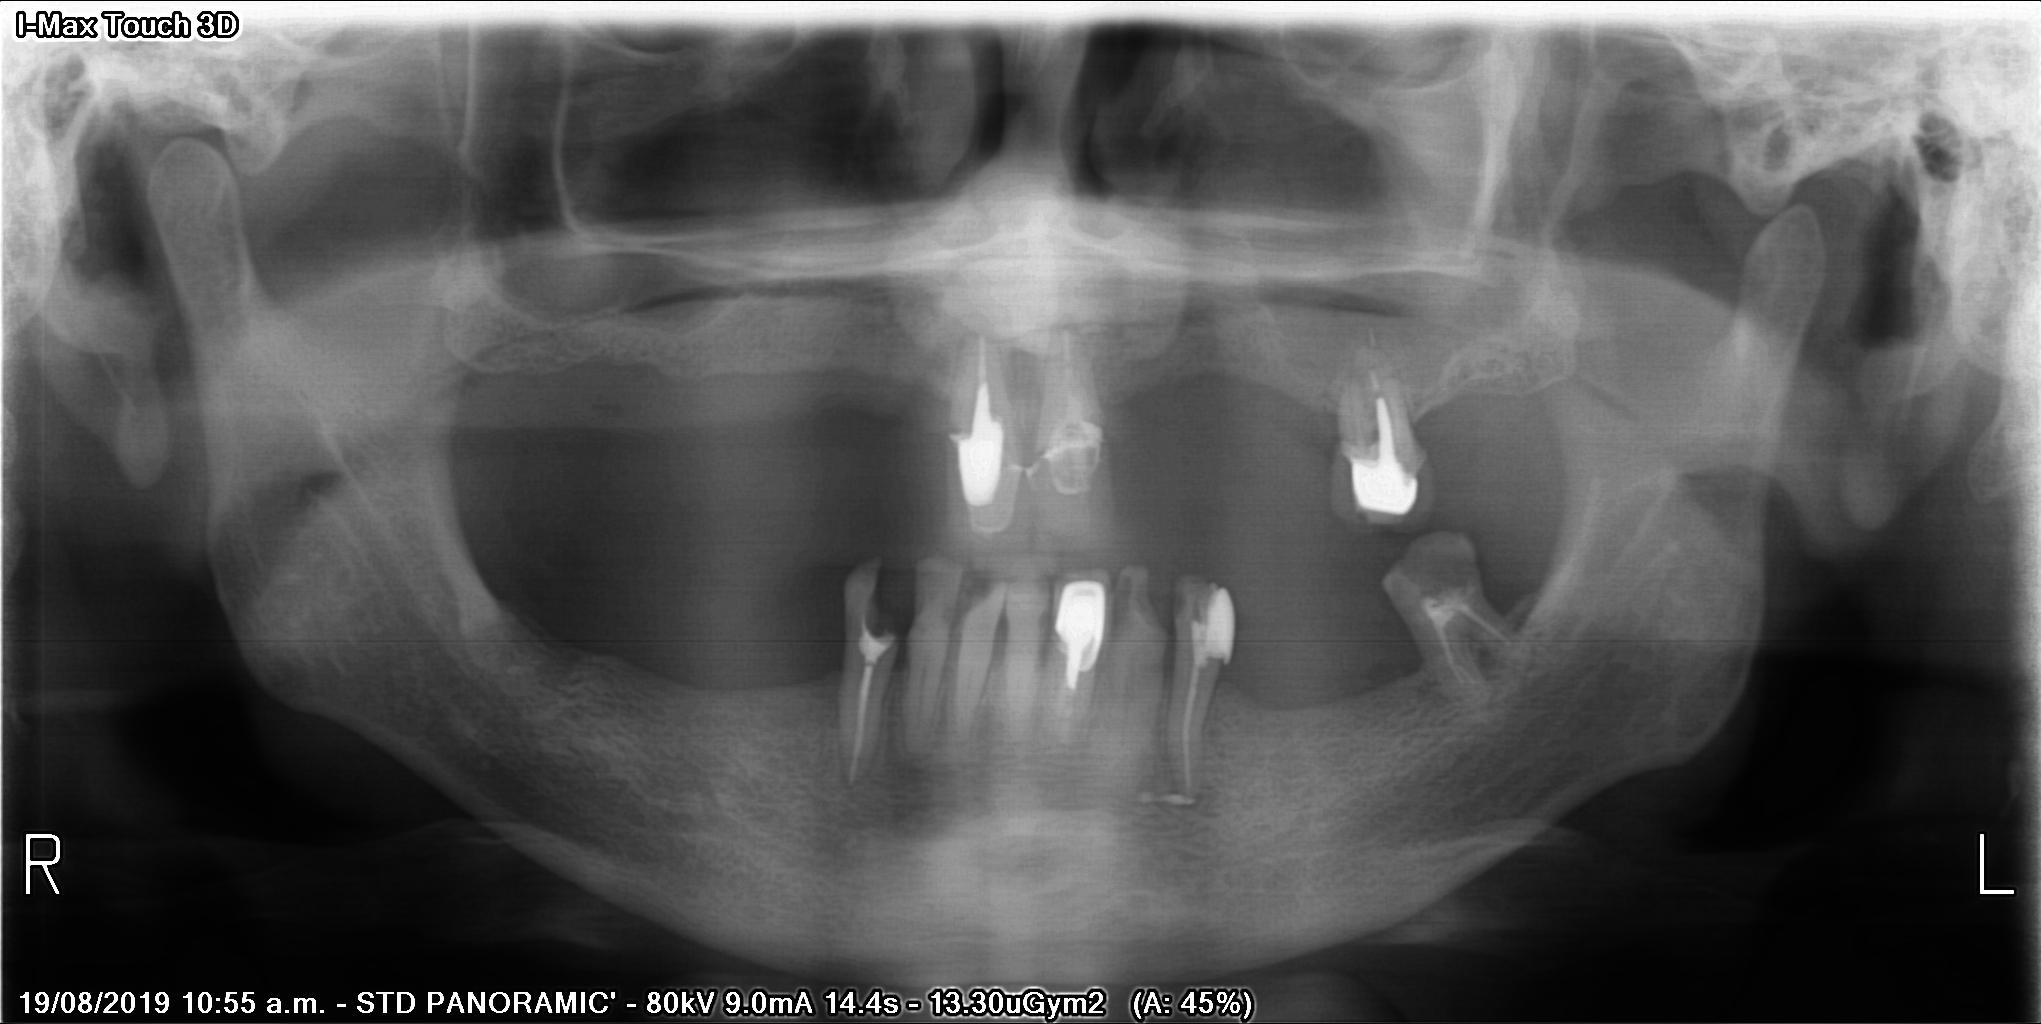Çürük: (1335, 383, 1435, 525), (944, 364, 1021, 520), (1045, 563, 1113, 699), (1178, 566, 1247, 677)
Çürük Bölgesi: (1396, 542, 1489, 602), (864, 560, 904, 648), (1111, 563, 1144, 647), (962, 564, 999, 616), (1141, 562, 1166, 637)
